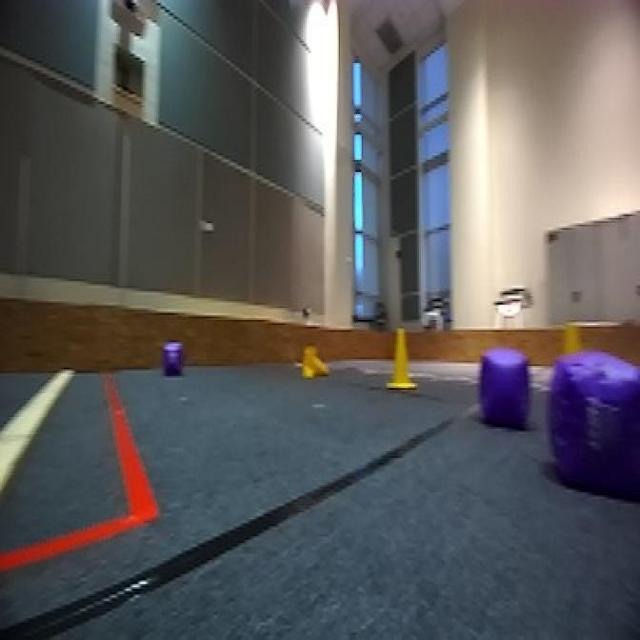frc_cone: (385, 325, 417, 395), (300, 346, 329, 380)
frc_cube: (545, 349, 640, 502), (475, 340, 537, 428), (159, 341, 185, 382)
